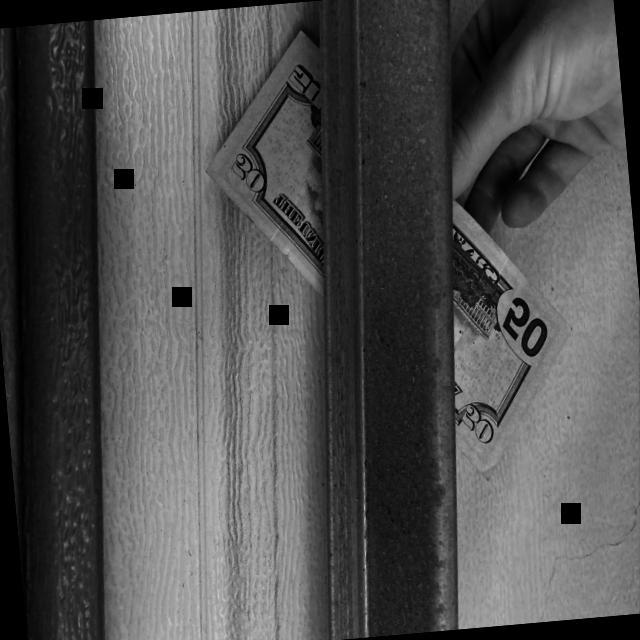fifty: (204, 27, 573, 483)
